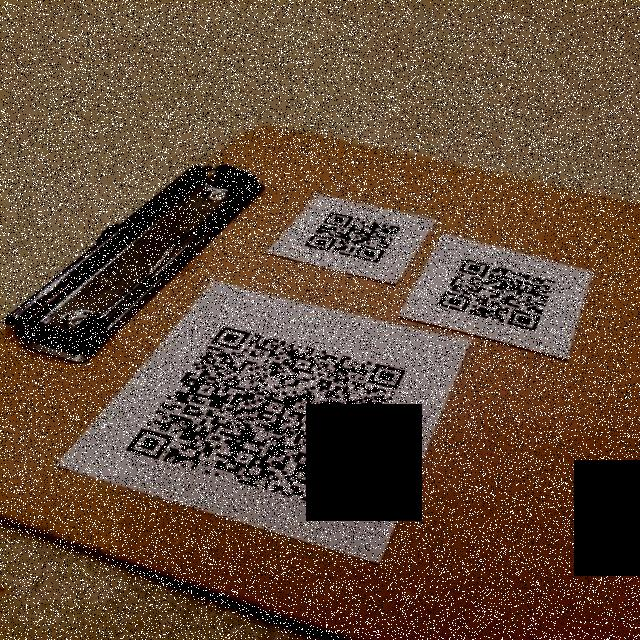QR_CODE: (118, 314, 424, 518), (430, 250, 570, 340), (294, 201, 412, 271)
